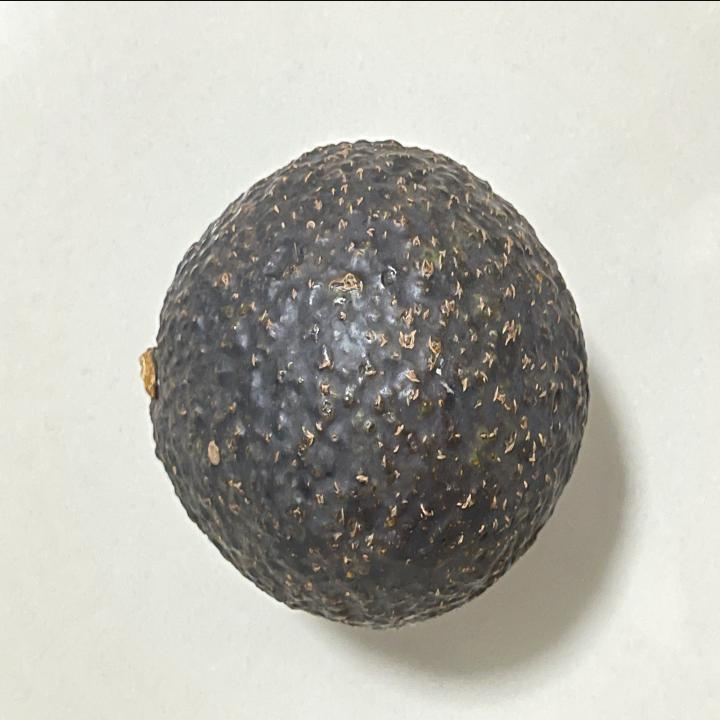Level2: (128, 131, 596, 637)
